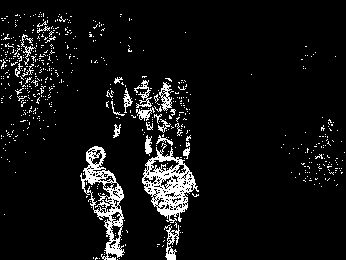person: (141, 139, 200, 260), (78, 144, 130, 257), (132, 72, 156, 157), (103, 74, 132, 139), (174, 76, 195, 162), (154, 74, 177, 139)
